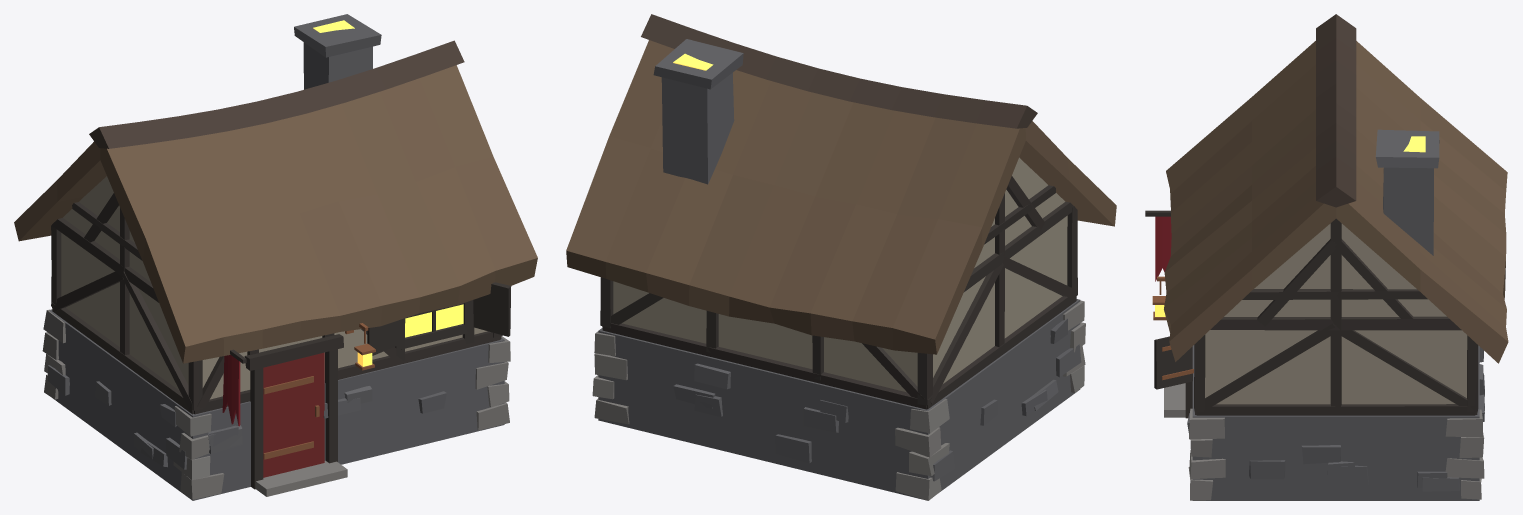
The model's file is house.glb.
3 views of the same model, side by side, from view 1: azimuth 30°, elevation 25°; view 2: azimuth 150°, elevation 25°; view 3: azimuth 270°, elevation 25° (orthographic). The views are drawn at different scales.
Visible parts, largest first — view 1: roof_thatch, walls_stone, frame_side_l, roof_ridge, walls_plaster, stone_quoins, door, door_frame, frame_front, chimney, gable_l, doorstep (+5 smaller); view 2: roof_thatch, walls_stone, walls_plaster, frame_side_l, roof_ridge, chimney, frame_back, stone_quoins, gable_l; view 3: roof_thatch, walls_stone, frame_side_r, walls_plaster, roof_ridge, gable_r, chimney, stone_quoins, shutter_r, banner, doorstep.
Part boxes in pixels (x1,y1,x2,y2): roof_thatch: (14, 65, 537, 363); walls_stone: (48, 310, 504, 500); frame_side_l: (51, 193, 198, 414); roof_ridge: (89, 40, 464, 148); walls_plaster: (61, 233, 487, 399); stone_quoins: (42, 309, 510, 499); door: (263, 352, 324, 477); door_frame: (244, 334, 343, 489); frame_front: (194, 300, 501, 414); chimney: (294, 14, 381, 89); gable_l: (63, 176, 150, 281); doorstep: (255, 460, 347, 496); roof_thatch: (566, 40, 1116, 354); walls_stone: (598, 299, 1081, 500); walls_plaster: (613, 215, 1067, 392); frame_side_l: (927, 176, 1077, 409); roof_ridge: (641, 14, 1037, 128); chimney: (653, 39, 743, 184); frame_back: (600, 277, 927, 409); stone_quoins: (592, 300, 1085, 500); gable_l: (974, 157, 1065, 267); roof_thatch: (1164, 41, 1508, 363); walls_stone: (1187, 345, 1484, 500); frame_side_r: (1194, 218, 1477, 415); walls_plaster: (1205, 330, 1467, 404); roof_ridge: (1316, 14, 1356, 207); gable_r: (1224, 223, 1446, 316); chimney: (1375, 129, 1439, 255); stone_quoins: (1188, 408, 1484, 500); shutter_r: (1154, 336, 1192, 389); banner: (1155, 216, 1171, 281); doorstep: (1164, 383, 1185, 417).
Size of what is drawn, in the model's own units: 5.7 by 5.07 by 5.06.
